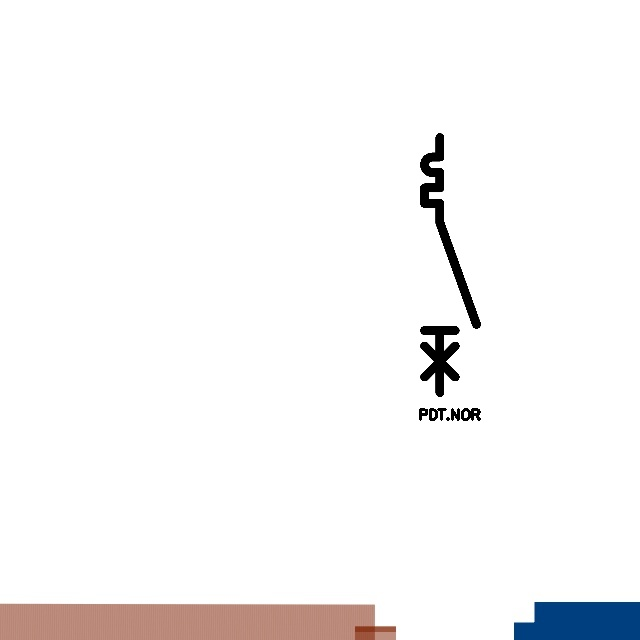interruptor_termomagnetico: (418, 131, 483, 399)
